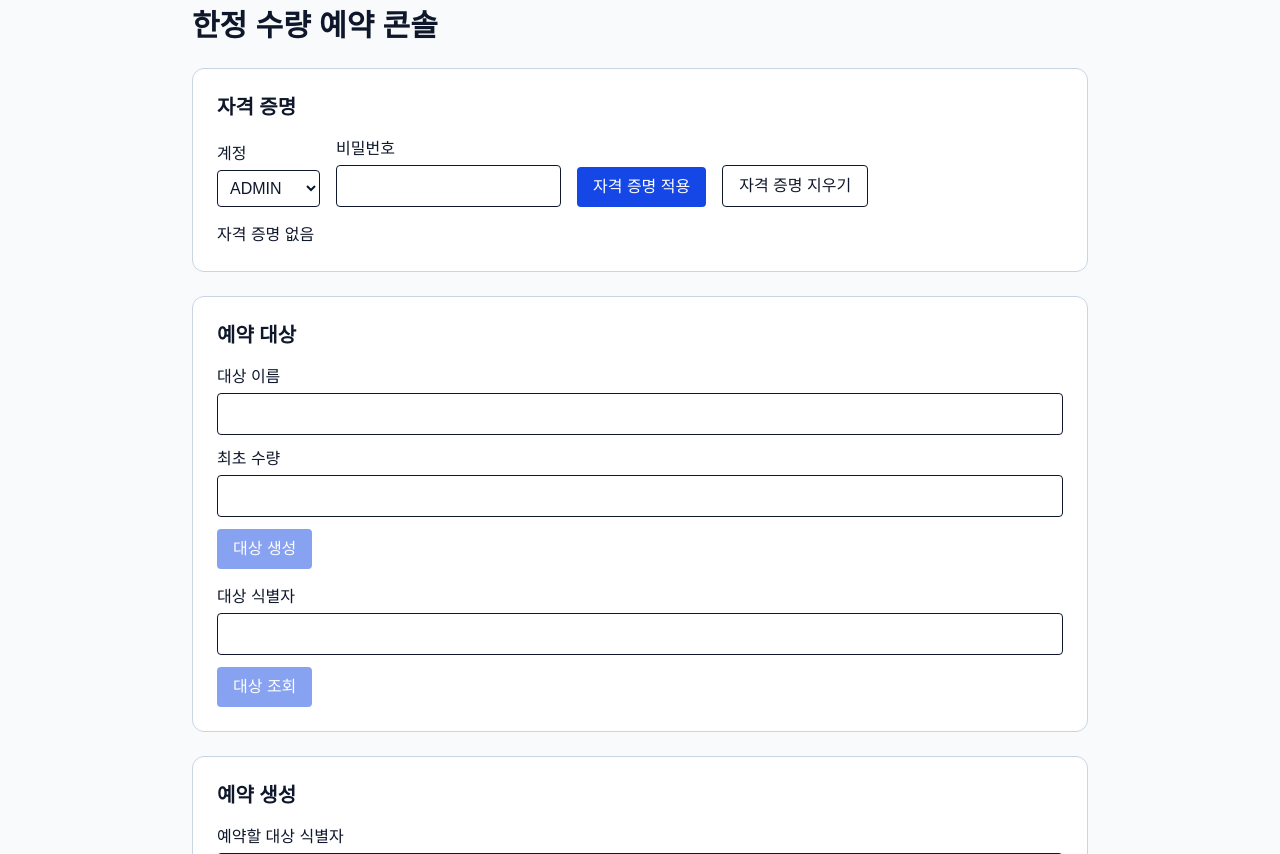
Test: 최근 기록 표시와 저장 › reservation 조회의 404 실패는 최근 기록에 추가하지 않는다
Select "USER_A" in the dropdown labelled "계정" at (268, 188), box left=217, top=170, right=320, bottom=207
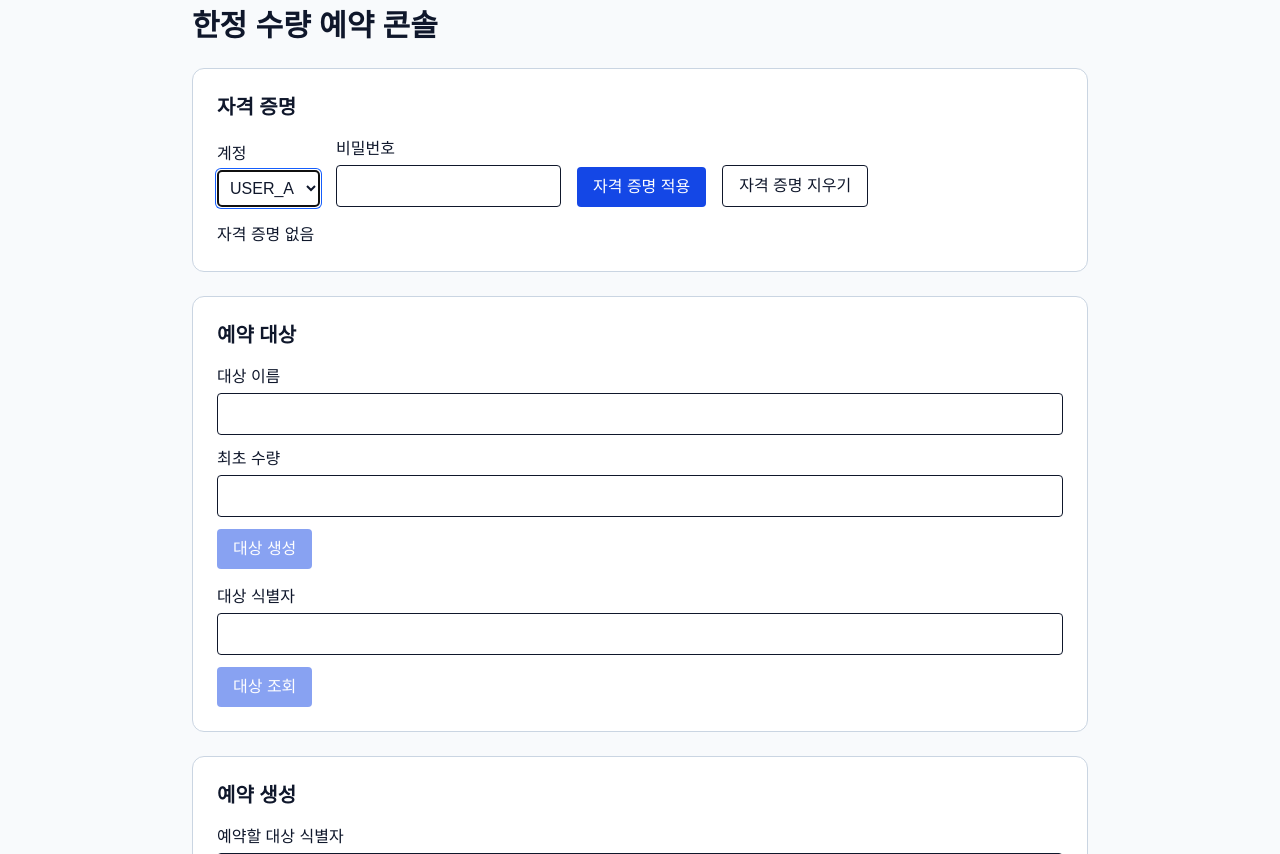
Type "history-secret-password" into the password field labelled "비밀번호" at (448, 186), box left=336, top=165, right=561, bottom=207
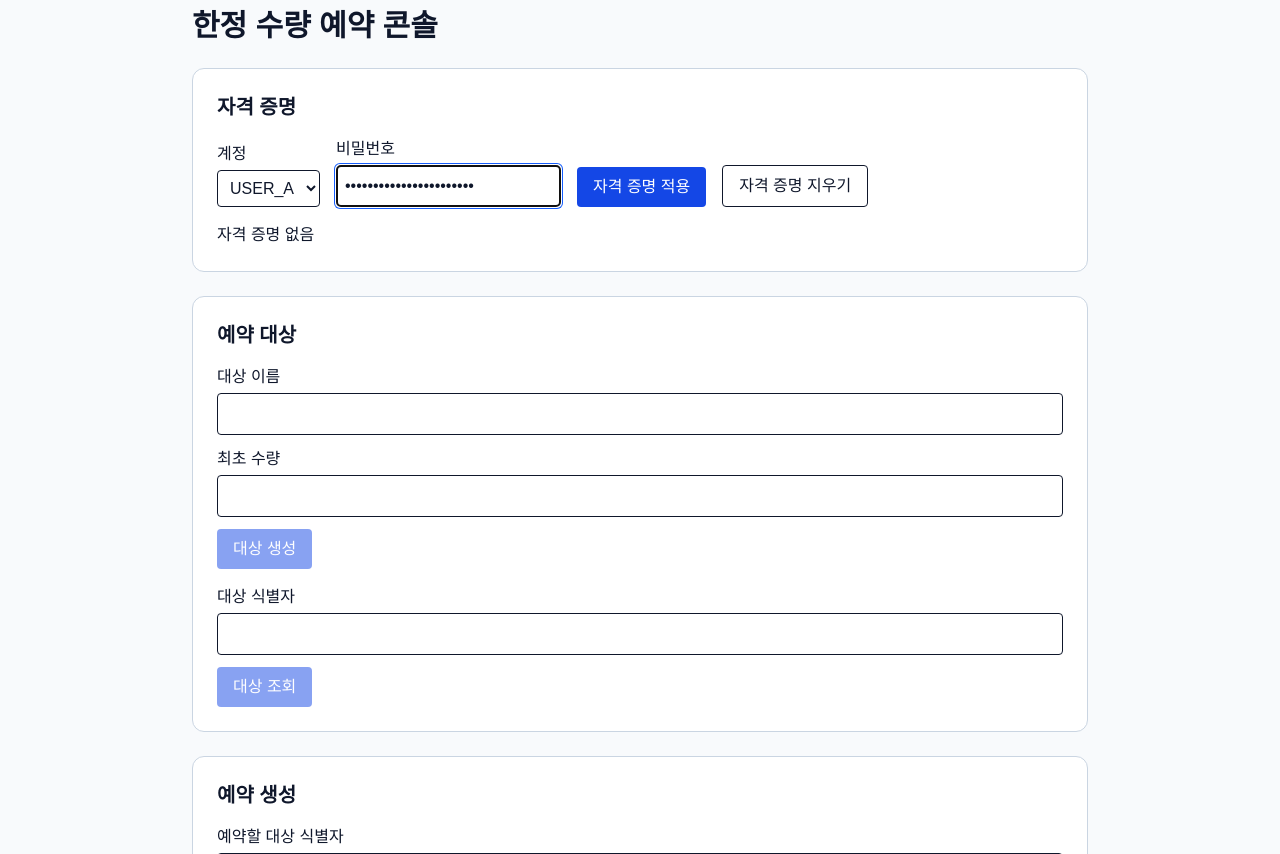
Click the button "자격 증명 적용" at (642, 187), box left=577, top=167, right=706, bottom=207
(page scrolled)
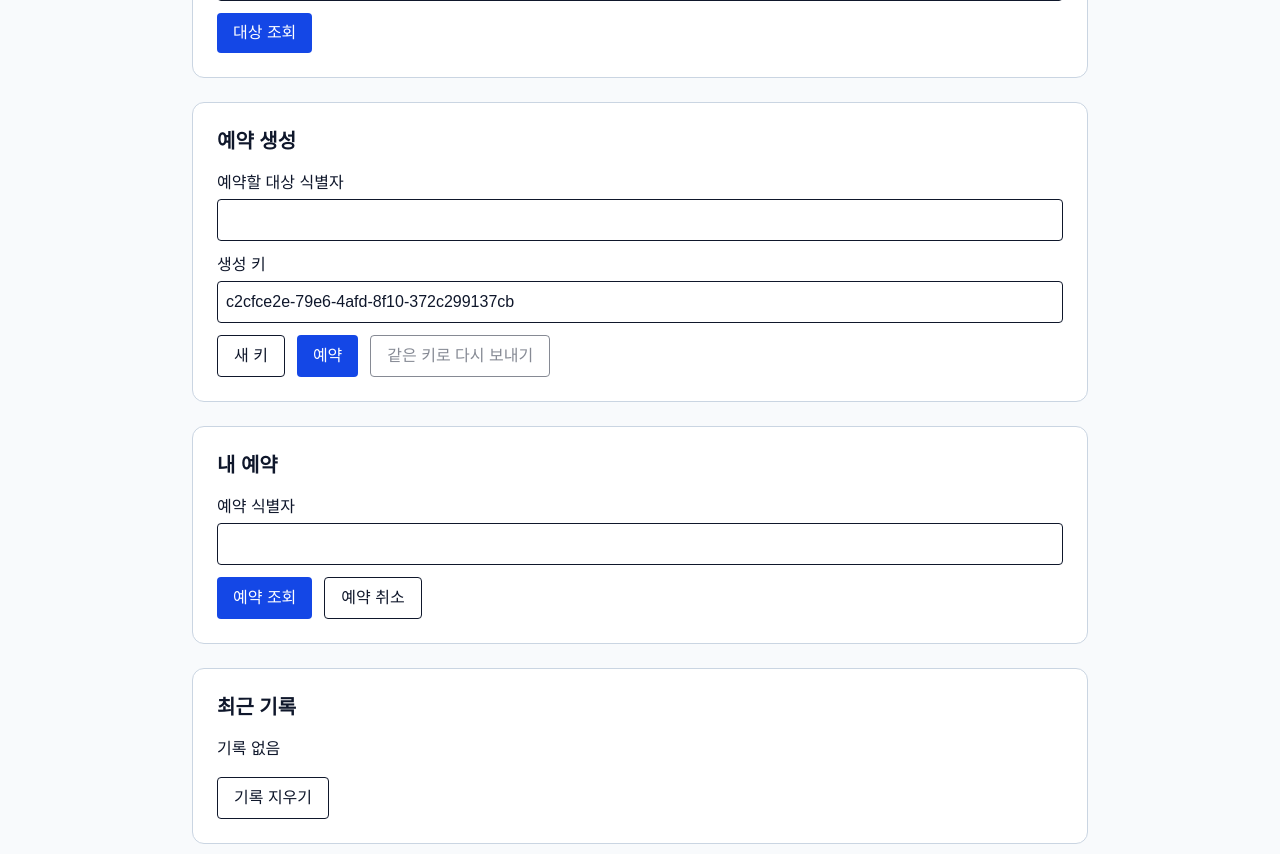
Type "98765432-1234-4234-8234-123456789abc" into the field labelled "예약 식별자" at (640, 544), box left=217, top=523, right=1063, bottom=565
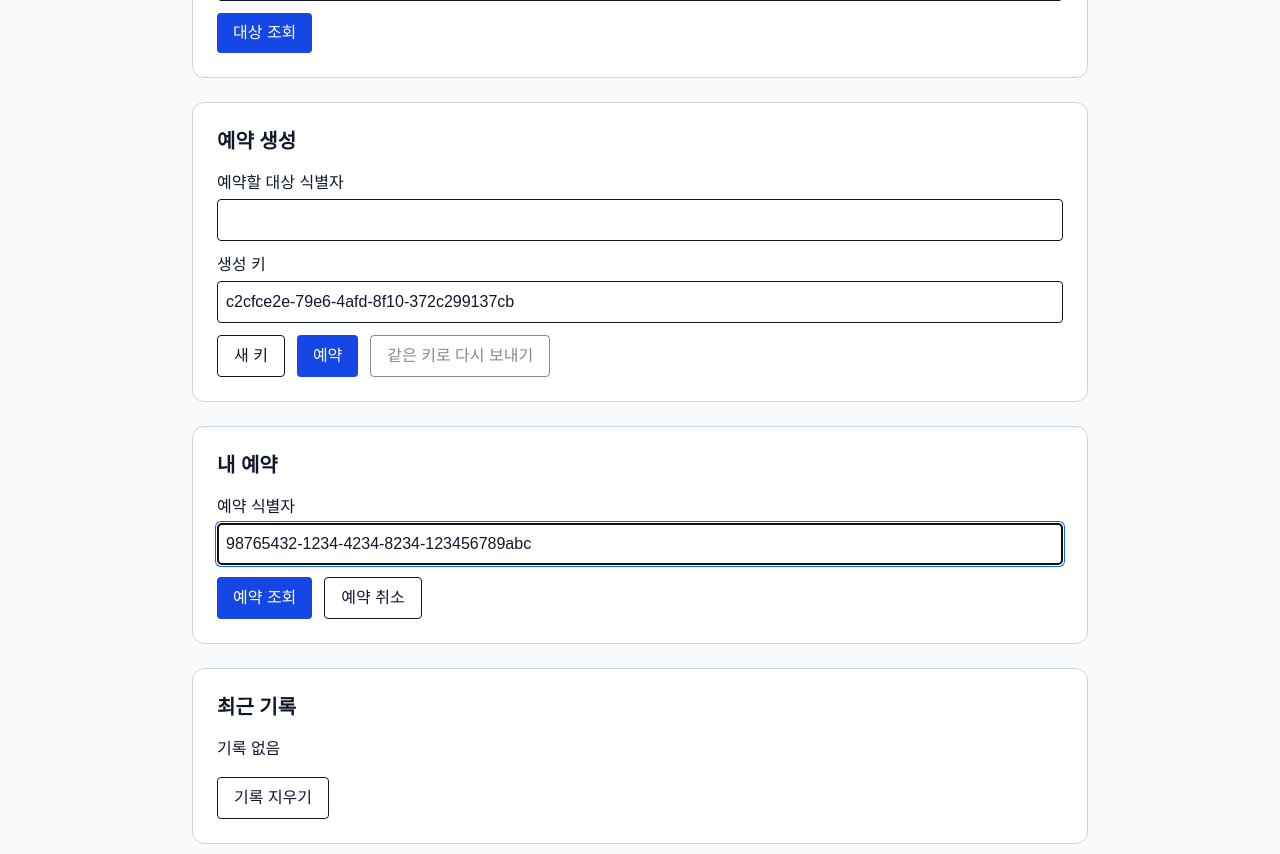
Click the button "예약 조회" at (265, 598), box left=217, top=577, right=312, bottom=619
(page scrolled)
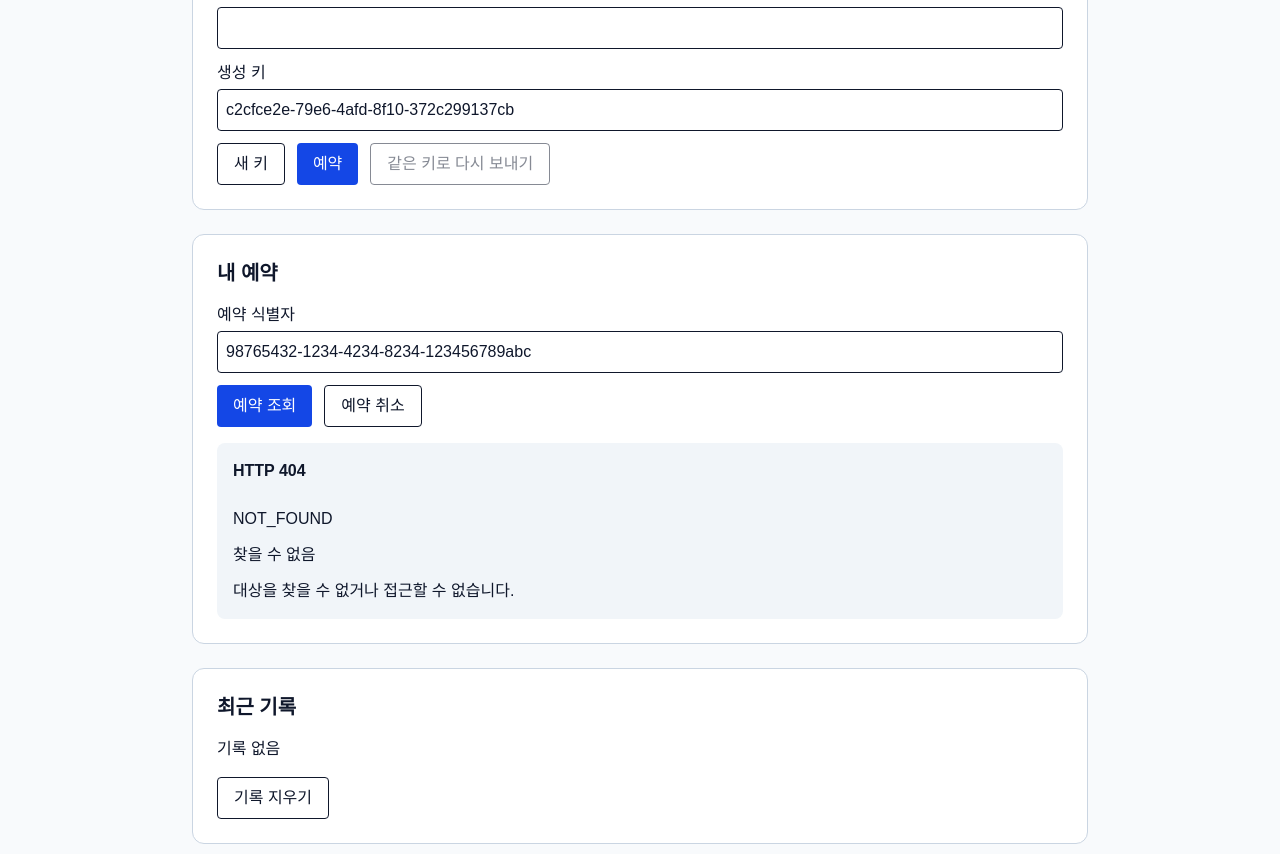
Expected: the text "기록 없음" is shown, left=217, top=740, right=280, bottom=757
Expected: the message named "내 예약 결과" is shown, left=217, top=443, right=1063, bottom=619
